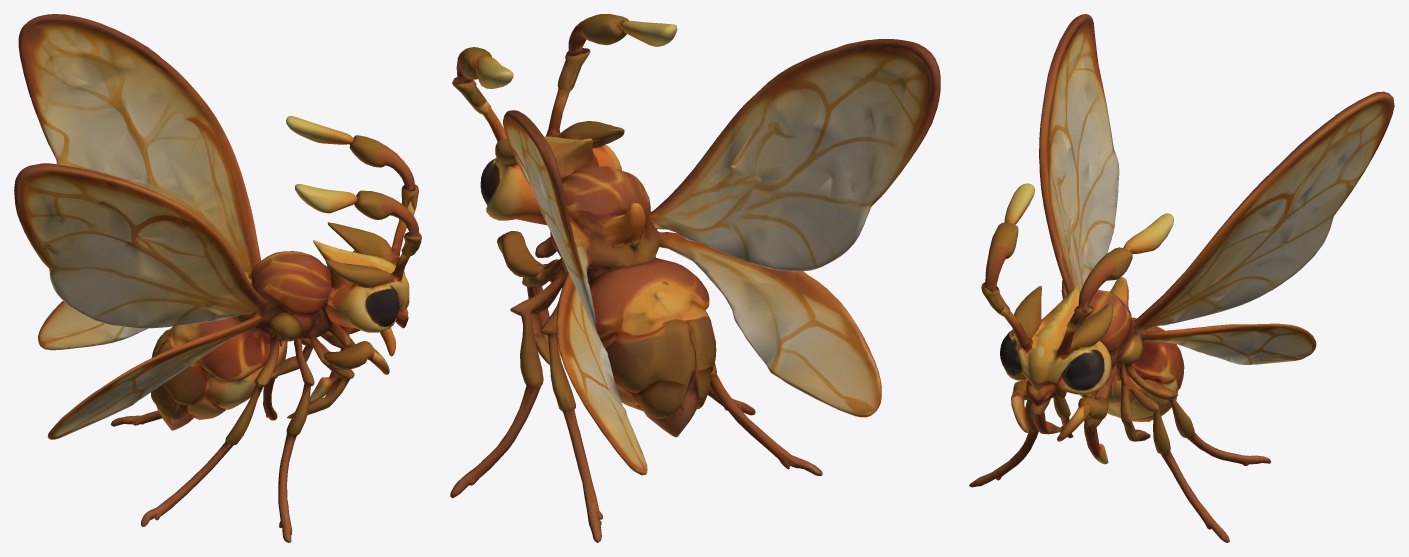
The model's file is n4_gnatlet.28de93cf.glb.
3 renders of one model, left to right at view 1: azimuth 30°, elevation 25°; view 2: azimuth 150°, elevation 25°; view 3: azimuth 270°, elevation 25°, orthographic. The views are drawn at different scales.
Parts seen in each view (by area): view 1: tripo_node_a858c43e-d112-4e6d-9fa2-6a59dbe310b3; view 2: tripo_node_a858c43e-d112-4e6d-9fa2-6a59dbe310b3; view 3: tripo_node_a858c43e-d112-4e6d-9fa2-6a59dbe310b3.
Boxes of the visible parts, x1,y1,x2,y2 form: tripo_node_a858c43e-d112-4e6d-9fa2-6a59dbe310b3: (14,14,421,542); tripo_node_a858c43e-d112-4e6d-9fa2-6a59dbe310b3: (450,14,940,542); tripo_node_a858c43e-d112-4e6d-9fa2-6a59dbe310b3: (969,14,1394,542).
Size of the model in its own units: 0.9997 by 0.9257 by 0.9386.
Materials: 1 (1 with a texture image).
